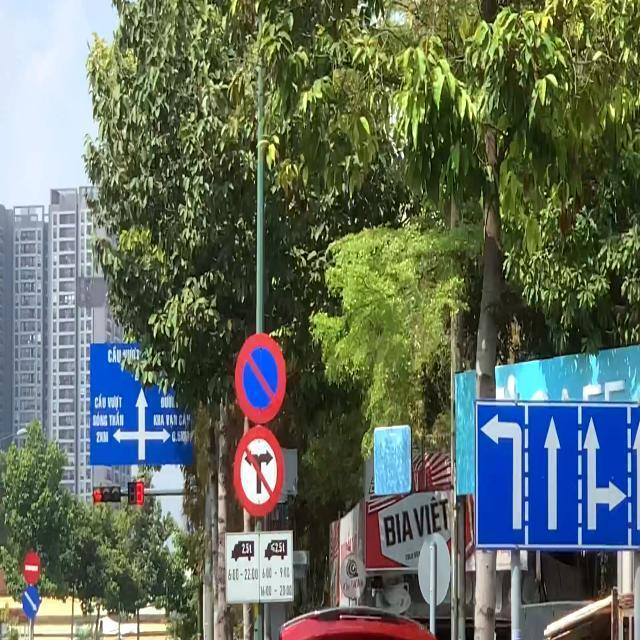102-cam-di-nguoc-chieu: (23, 552, 41, 580)
131a-cam-do-xe: (233, 332, 287, 428)
137-cam-re-trai-va-re-phai: (232, 428, 284, 516)
302a-huong-phai-di-vong-chuong-ngai-vat-1: (22, 588, 42, 616)
